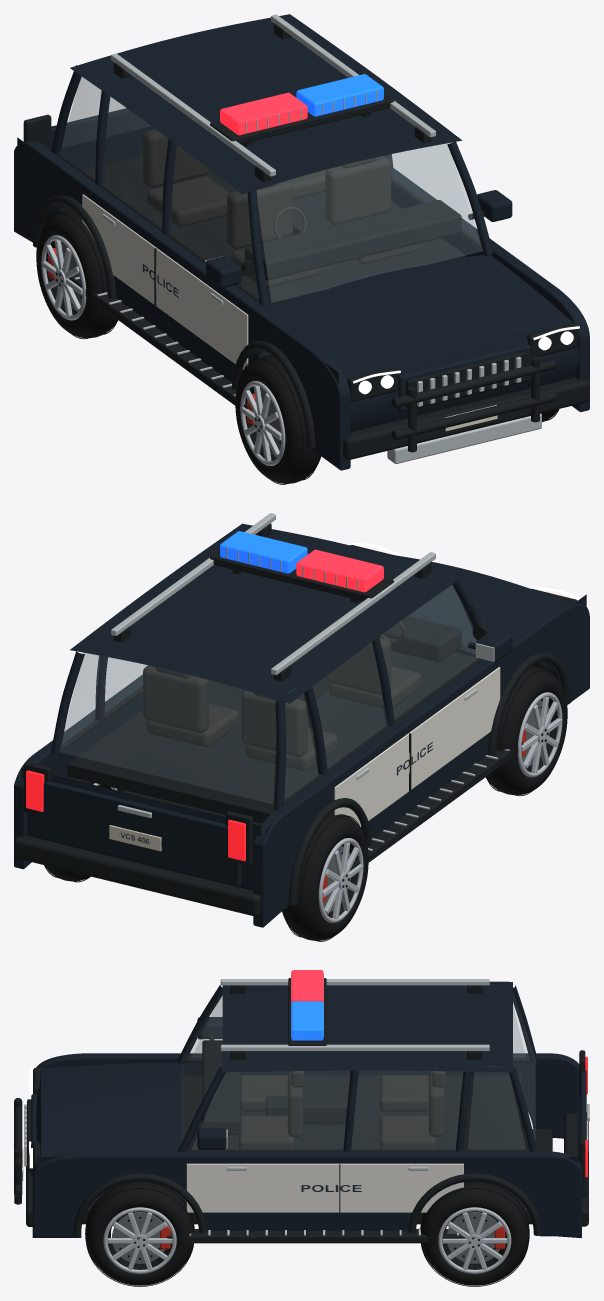
File: police-suv-detailed-v3.glb
3 views of the same model, one above another, from view 1: azimuth 30°, elevation 25°; view 2: azimuth 150°, elevation 25°; view 3: azimuth 270°, elevation 25° (orthographic). The views are drawn at different scales.
Parts seen in each view (by area): view 1: Patrol_Black_Clearcoat, Graphite_Trim, Smoked_Automotive_Glass, Charcoal_Leather, Performance_Rubber (×2), Polished_Aluminium, Police_White_Clearcoat, Forged_Aluminium (×2), Emergency_Red, Emergency_Blue, Police_Marking, Projector_LED; view 2: Patrol_Black_Clearcoat, Graphite_Trim, Smoked_Automotive_Glass, Charcoal_Leather, Performance_Rubber (×2), Police_White_Clearcoat, Forged_Aluminium (×2), Polished_Aluminium, Emergency_Red, Emergency_Blue, Police_Marking, Rear_LED (+1 smaller); view 3: Patrol_Black_Clearcoat, Graphite_Trim, Smoked_Automotive_Glass, Performance_Rubber (×2), Police_White_Clearcoat, Charcoal_Leather, Forged_Aluminium (×2), Polished_Aluminium, Police_Marking, Ventilated_Brake_Disc (×2), Emergency_Blue, Tire_Grooves (×2) (+1 smaller).
Part boxes in pixels (bbox=[...]): Patrol_Black_Clearcoat: bbox=[14, 14, 589, 470]; Graphite_Trim: bbox=[23, 23, 589, 459]; Smoked_Automotive_Glass: bbox=[60, 71, 482, 302]; Charcoal_Leather: bbox=[143, 129, 421, 287]; Performance_Rubber (×2): bbox=[36, 209, 321, 483]; Polished_Aluminium: bbox=[74, 14, 541, 463]; Police_White_Clearcoat: bbox=[82, 194, 248, 369]; Forged_Aluminium (×2): bbox=[41, 235, 285, 465]; Emergency_Red: bbox=[220, 92, 307, 135]; Emergency_Blue: bbox=[296, 74, 383, 116]; Police_Marking: bbox=[125, 245, 196, 316]; Projector_LED: bbox=[353, 326, 579, 394]; Patrol_Black_Clearcoat: bbox=[14, 523, 589, 927]; Graphite_Trim: bbox=[14, 523, 577, 916]; Smoked_Automotive_Glass: bbox=[59, 585, 477, 803]; Charcoal_Leather: bbox=[143, 621, 421, 771]; Performance_Rubber (×2): bbox=[282, 666, 567, 940]; Police_White_Clearcoat: bbox=[334, 667, 500, 826]; Forged_Aluminium (×2): bbox=[318, 692, 562, 922]; Polished_Aluminium: bbox=[111, 513, 509, 850]; Emergency_Red: bbox=[296, 549, 383, 592]; Emergency_Blue: bbox=[220, 531, 307, 573]; Police_Marking: bbox=[379, 723, 450, 794]; Rear_LED: bbox=[26, 770, 245, 861]; Patrol_Black_Clearcoat: bbox=[31, 981, 586, 1238]; Graphite_Trim: bbox=[14, 978, 588, 1243]; Smoked_Automotive_Glass: bbox=[181, 991, 535, 1149]; Performance_Rubber (×2): bbox=[85, 1182, 529, 1285]; Police_White_Clearcoat: bbox=[186, 1163, 463, 1212]; Charcoal_Leather: bbox=[238, 1071, 445, 1149]; Forged_Aluminium (×2): bbox=[103, 1207, 511, 1273]; Polished_Aluminium: bbox=[24, 974, 589, 1235]; Police_Marking: bbox=[271, 1180, 390, 1197]; Ventilated_Brake_Disc (×2): bbox=[112, 1212, 499, 1263]; Emergency_Blue: bbox=[291, 1001, 323, 1040]; Tire_Grooves (×2): bbox=[85, 1181, 529, 1286].
Size of the model in its own units: 2.38 by 2.16 by 4.82.
20 materials, 4 textured.
